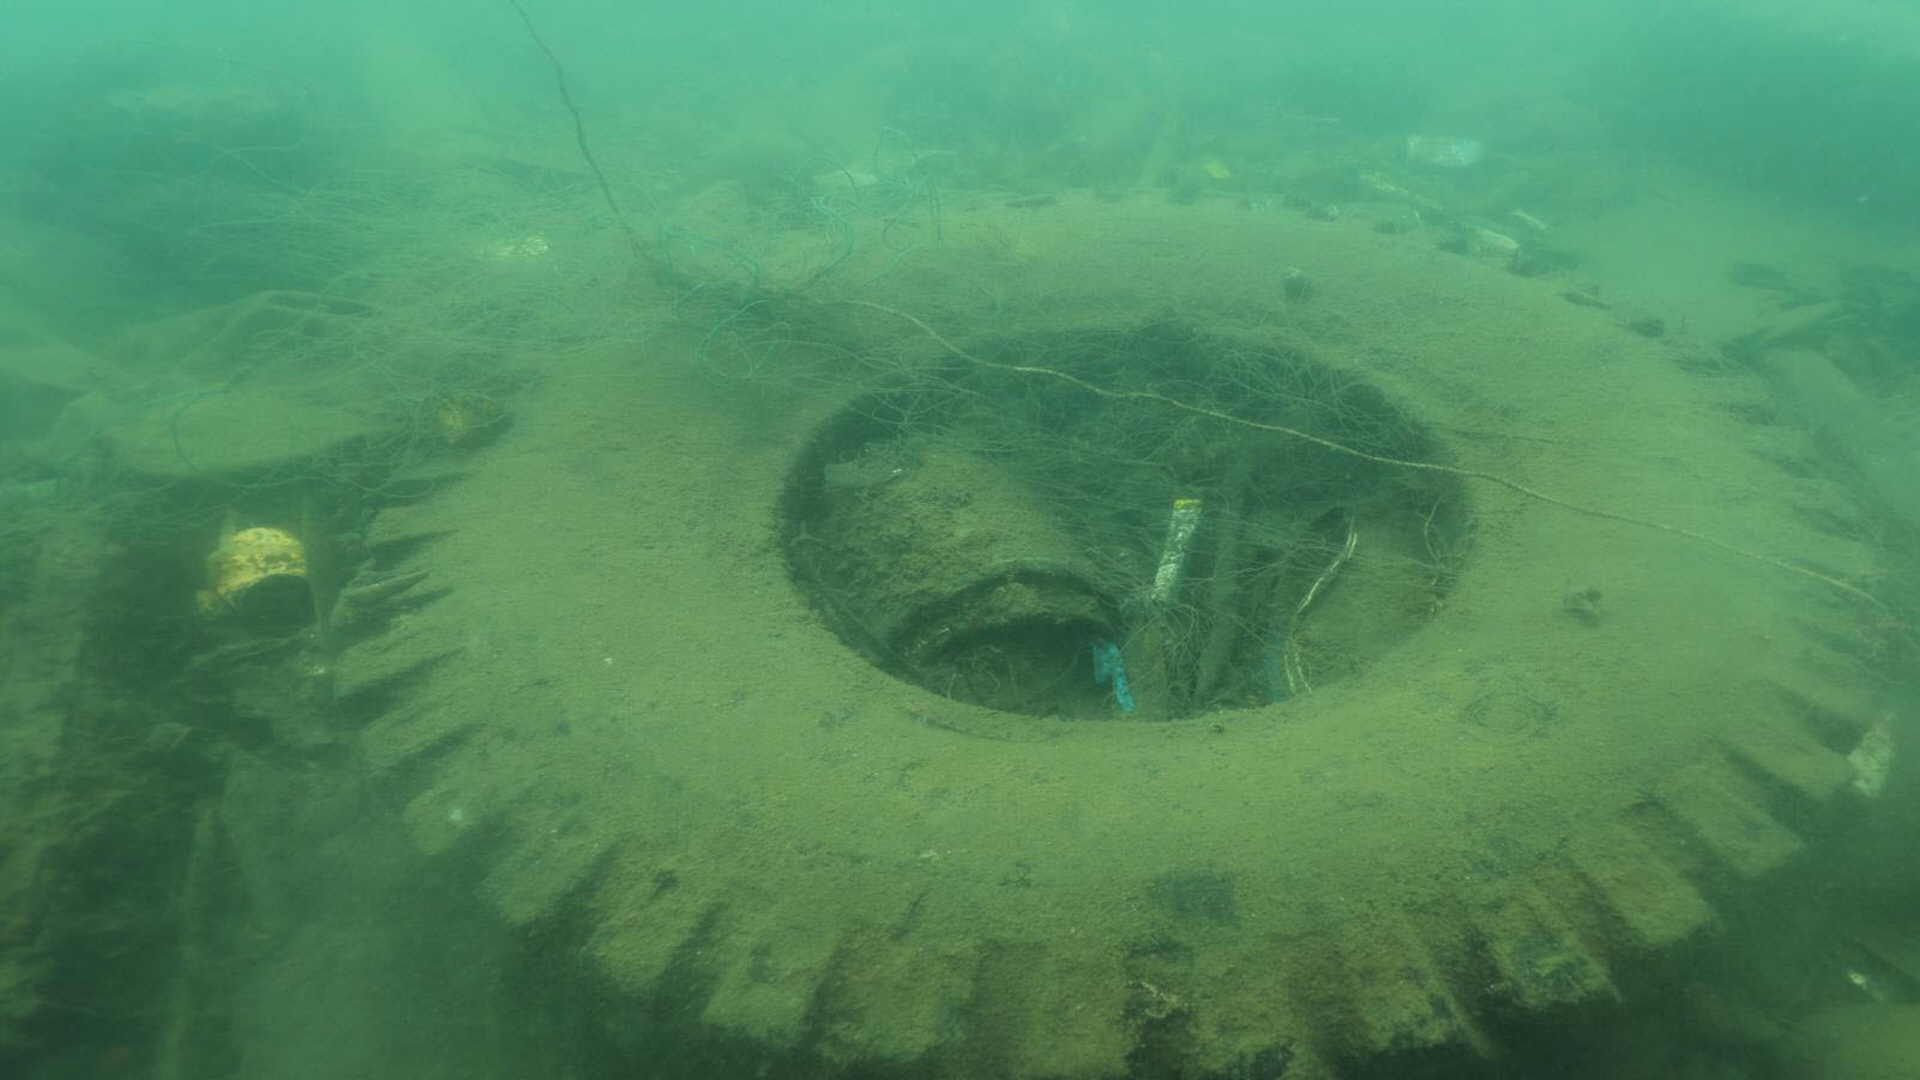tire: (334, 190, 1920, 1080)
